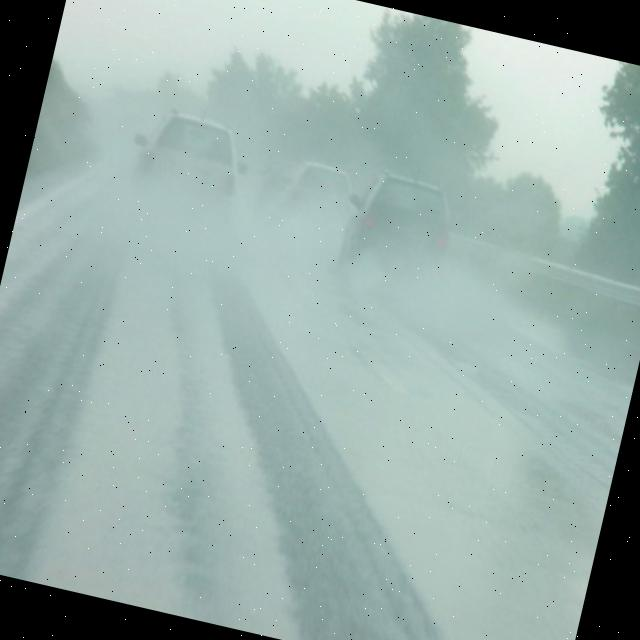car: (114, 100, 260, 237), (336, 168, 462, 288), (268, 152, 362, 247)
